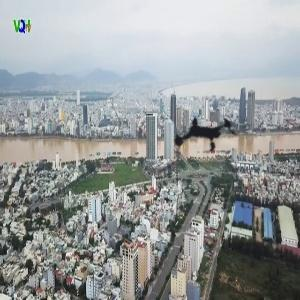drone: (154, 82, 261, 189)
